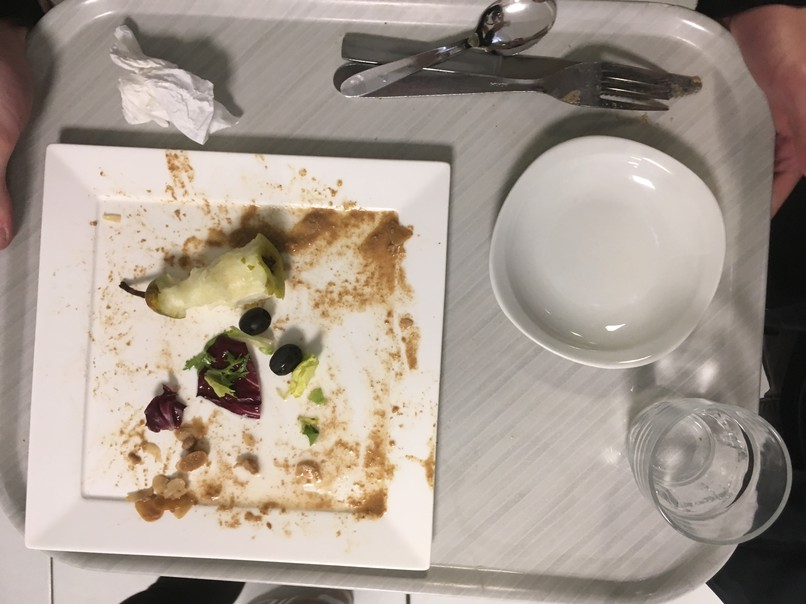cup: (616, 383, 796, 550)
cutlery: (319, 2, 706, 115)
orga: (194, 316, 324, 445), (135, 234, 288, 312), (136, 474, 203, 526), (140, 394, 196, 441)
trash: (96, 18, 240, 146)
